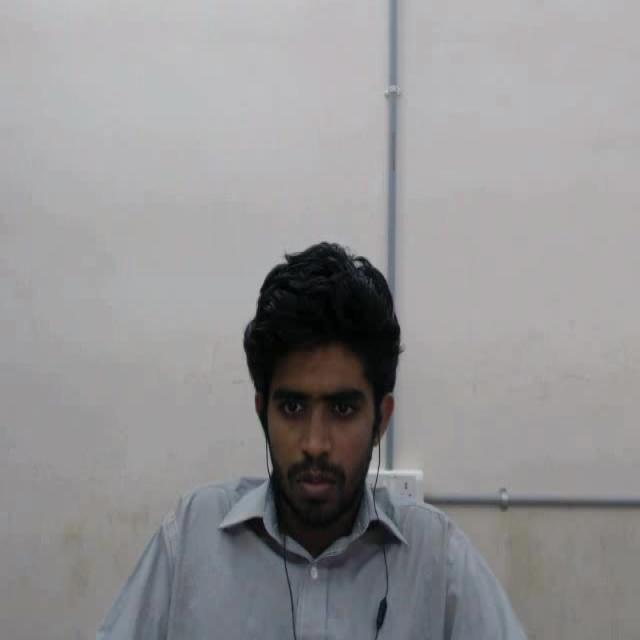Engaged: (209, 196, 463, 574)
